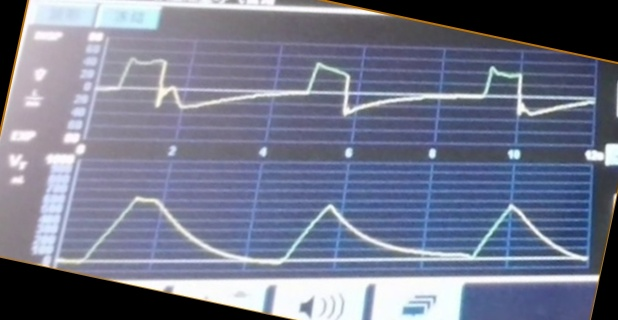Premature_cycling Flow: (105, 52, 571, 139)
Premature_cycling Volume: (85, 196, 586, 270)
